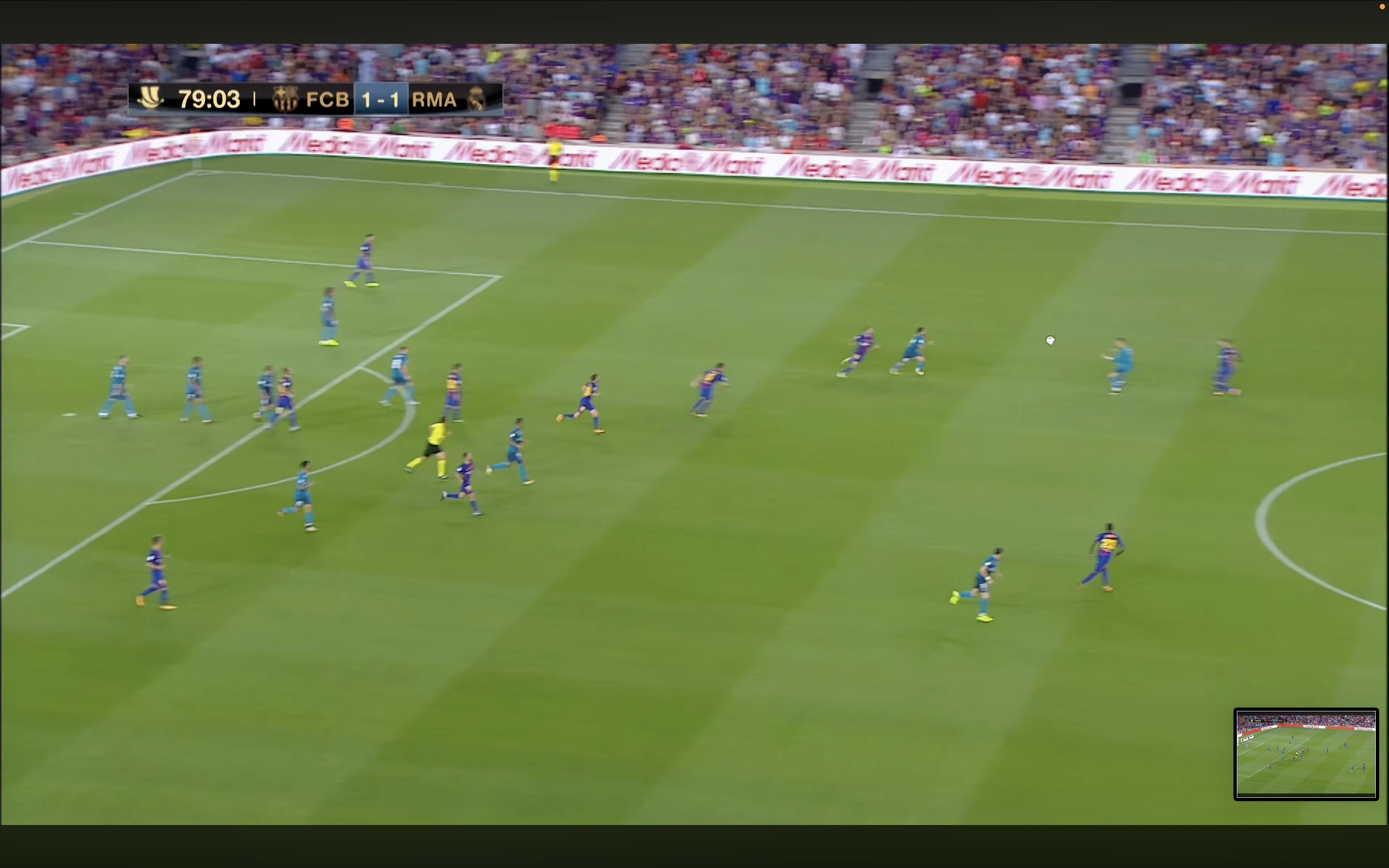ball: (1045, 336, 1055, 345)
player: (950, 548, 1003, 622), (486, 418, 533, 484), (1078, 524, 1124, 591), (136, 536, 176, 610), (556, 374, 604, 434), (277, 460, 316, 532), (441, 453, 483, 515), (98, 356, 138, 418), (380, 346, 418, 405), (180, 356, 212, 423), (265, 368, 299, 431), (690, 362, 728, 417), (890, 327, 933, 375), (837, 328, 877, 377), (344, 234, 379, 288), (1102, 339, 1133, 393), (1213, 339, 1242, 395), (253, 365, 275, 419), (443, 363, 463, 422), (319, 288, 339, 346)
referee: (404, 417, 449, 479), (548, 138, 563, 182)
